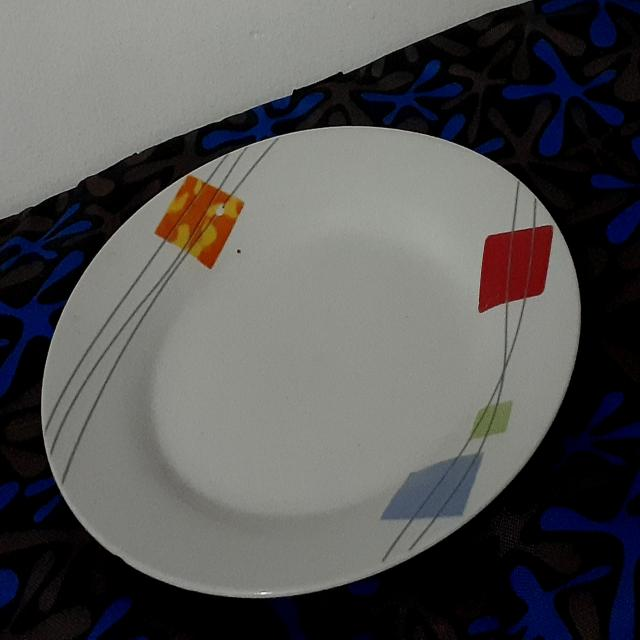non-organic waste: (44, 124, 585, 612)
